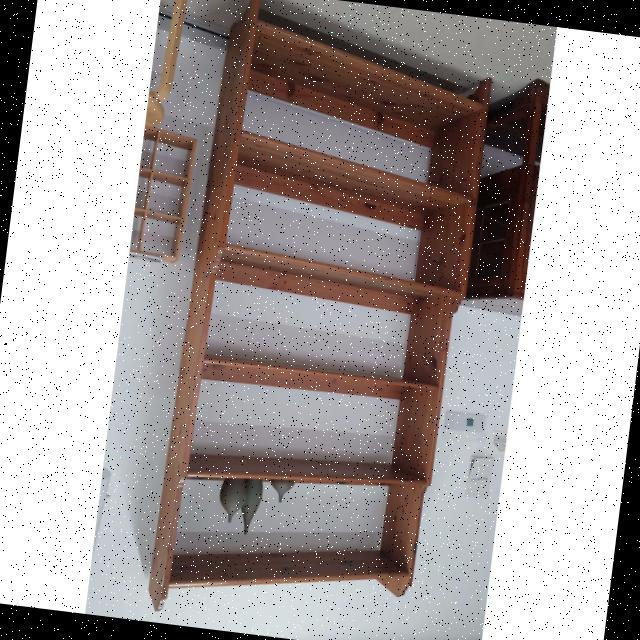Shelf: (143, 0, 506, 640)
